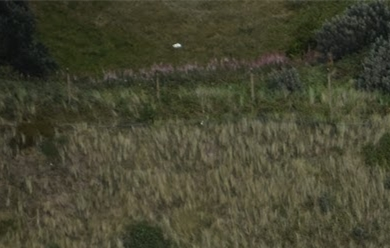straight_bar: (161, 29, 192, 60)
